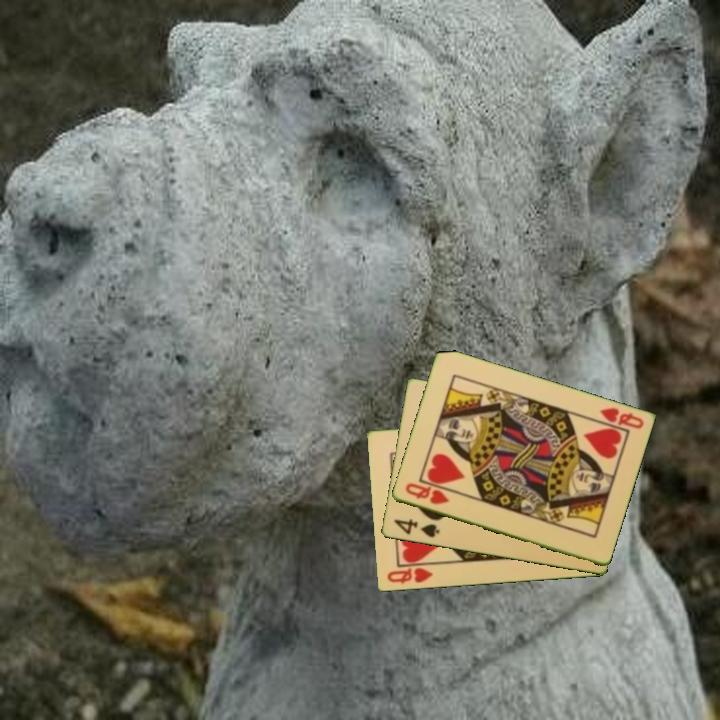4s: (390, 515, 442, 541)
Qh: (401, 480, 452, 508), (384, 561, 438, 587), (596, 404, 646, 432)
